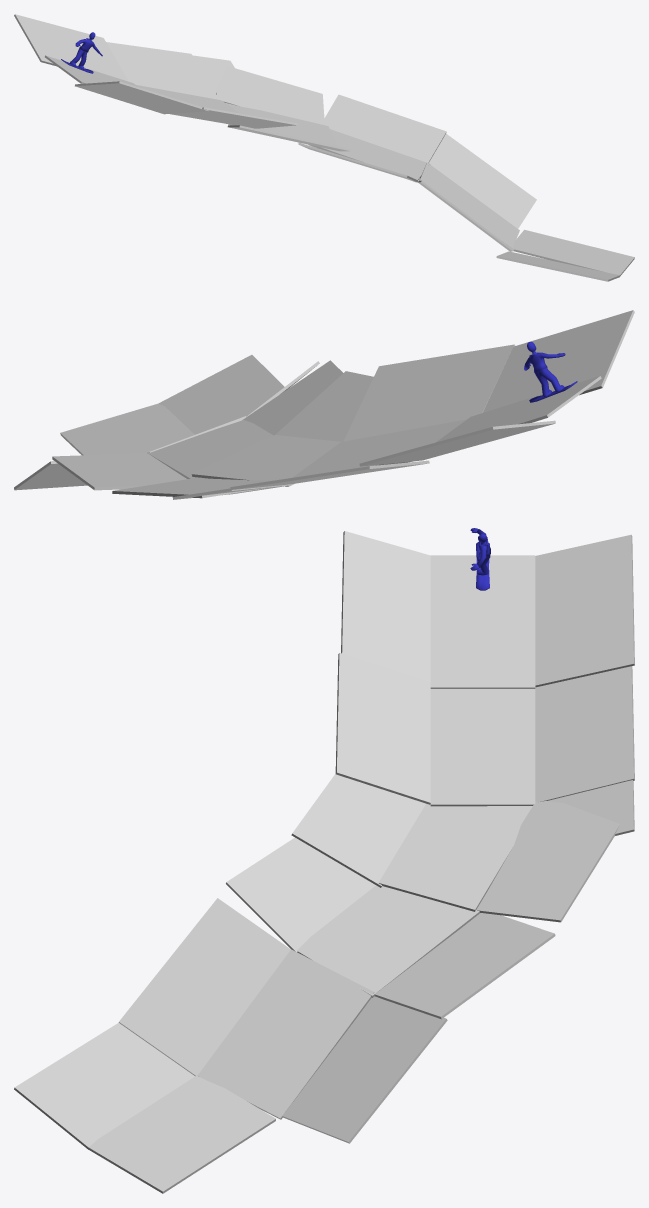
The model's file is MyCourse.dae.
3 views of the same model, one above another, from view 1: azimuth 30°, elevation 25°; view 2: azimuth 150°, elevation 25°; view 3: azimuth 270°, elevation 25° (orthographic). The views are drawn at different scales.
Parts seen in each view (by area): view 1: Cube16, Cube9, Cube13, Cube4, Cube1, Cube6, Cube10, Cube15, Cube2, Cube12, Cube5, Cube11 (+7 smaller); view 2: Cube5, Cube2, Cube11, Cube6, Cube12, Cube14, Cube16, Cube3, Cube15, Cube, Cube17, Cube1 (+6 smaller); view 3: Cube8, Cube10, Cube, Cube1, Cube3, Cube5, Cube4, Cube11, Cube9, Cube2, Cube6, Cube12 (+6 smaller).
Boxes of the visible parts, x1,y1,x2,y2 form: Cube16: [324, 94, 446, 162]; Cube9: [429, 133, 536, 228]; Cube13: [216, 66, 324, 125]; Cube4: [106, 42, 218, 99]; Cube1: [14, 14, 128, 81]; Cube6: [512, 229, 634, 276]; Cube10: [419, 162, 519, 248]; Cube15: [308, 129, 429, 182]; Cube2: [75, 81, 208, 114]; Cube12: [225, 102, 337, 146]; Cube5: [170, 107, 297, 128]; Cube11: [496, 251, 620, 281]; Cube5: [343, 344, 515, 441]; Cube2: [483, 310, 634, 412]; Cube11: [158, 355, 284, 434]; Cube6: [60, 403, 194, 455]; Cube12: [191, 435, 340, 486]; Cube14: [275, 371, 373, 441]; Cube16: [52, 453, 187, 490]; Cube3: [292, 419, 466, 477]; Cube15: [147, 420, 273, 478]; Cube: [436, 376, 601, 442]; Cube17: [243, 360, 343, 435]; Cube1: [359, 420, 555, 466]; Cube8: [118, 898, 290, 1076]; Cube10: [197, 949, 374, 1119]; Cube: [430, 555, 535, 688]; Cube1: [535, 534, 634, 687]; Cube3: [430, 688, 535, 806]; Cube5: [335, 653, 430, 804]; Cube4: [535, 666, 634, 802]; Cube11: [14, 1023, 194, 1149]; Cube9: [282, 996, 447, 1143]; Cube2: [341, 531, 430, 681]; Cube6: [88, 1075, 275, 1193]; Cube12: [378, 803, 532, 911].
Size of the model in its own units: 74.2 by 59.75 by 38.08.
